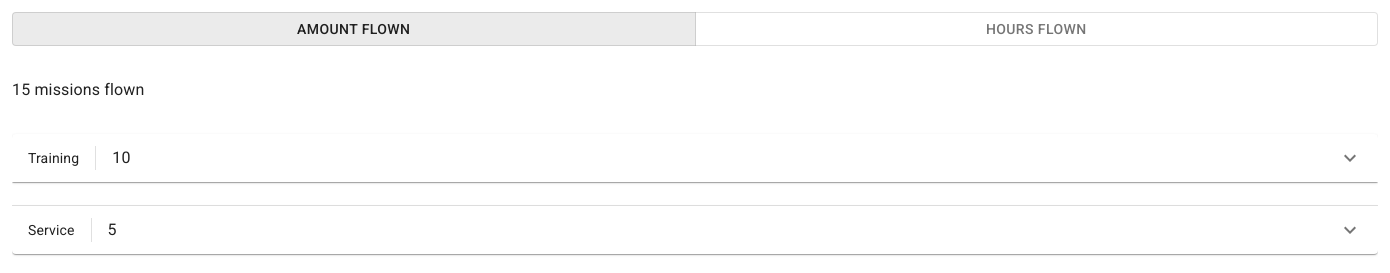
Test: MissionTypesFlown Component › switches between "missions" and "hours" view
Click the button "Hours Flown".
click(1036, 29)  # box 694,12 -> 1378,46
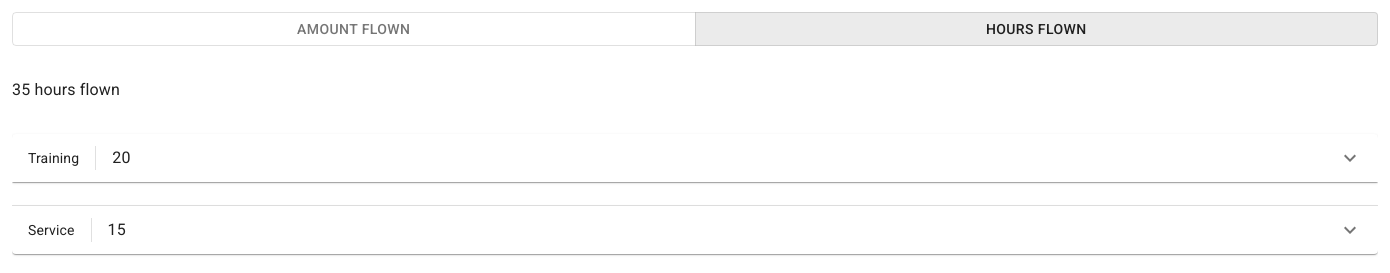
Now the text "35 hours flown" is shown, box 12,80 -> 120,99
